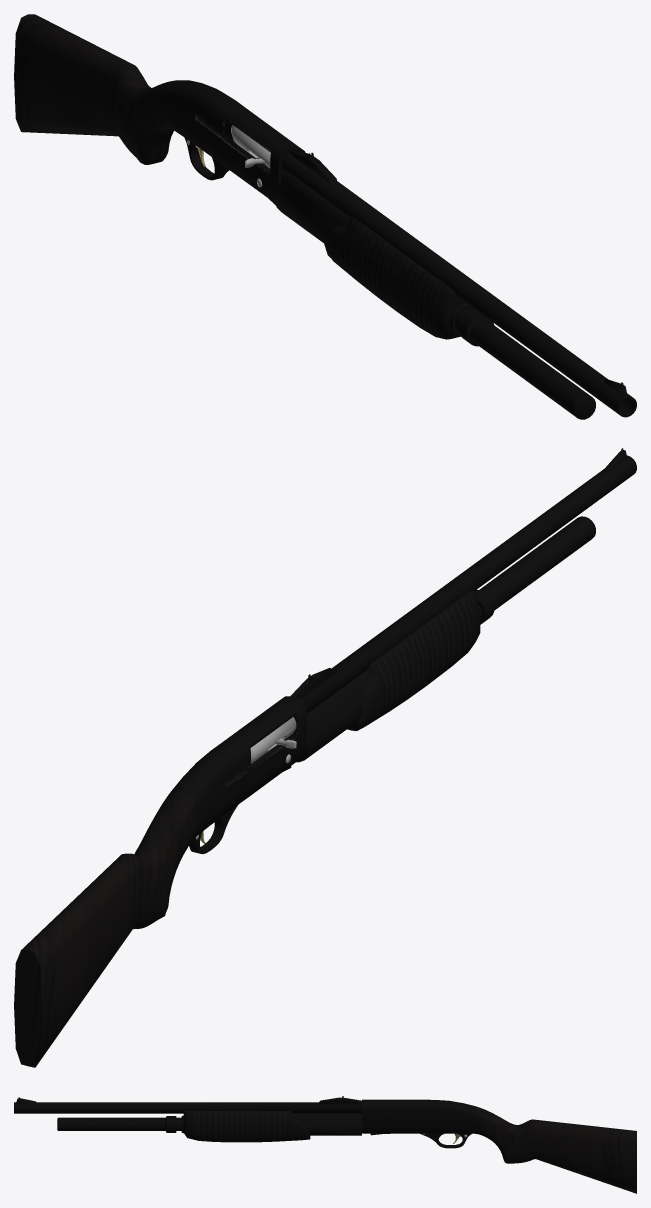
The model's file is SAR.fbx.
3 views of the same model, one above another, from view 1: azimuth 30°, elevation 25°; view 2: azimuth 150°, elevation 25°; view 3: azimuth 270°, elevation 25° (orthographic). The views are drawn at different scales.
Visible parts, largest first — view 1: Cube_004, Cube_005; view 2: Cube_004; view 3: Cube_004.
Part boxes in pixels (x1,y1,x2,y2): Cube_004: (14, 14, 636, 419); Cube_005: (231, 125, 270, 167); Cube_004: (14, 448, 636, 1067); Cube_004: (14, 1096, 636, 1193).
Size of the model in its own units: 4.67 by 17.77 by 105.
1 material, 1 textured.
